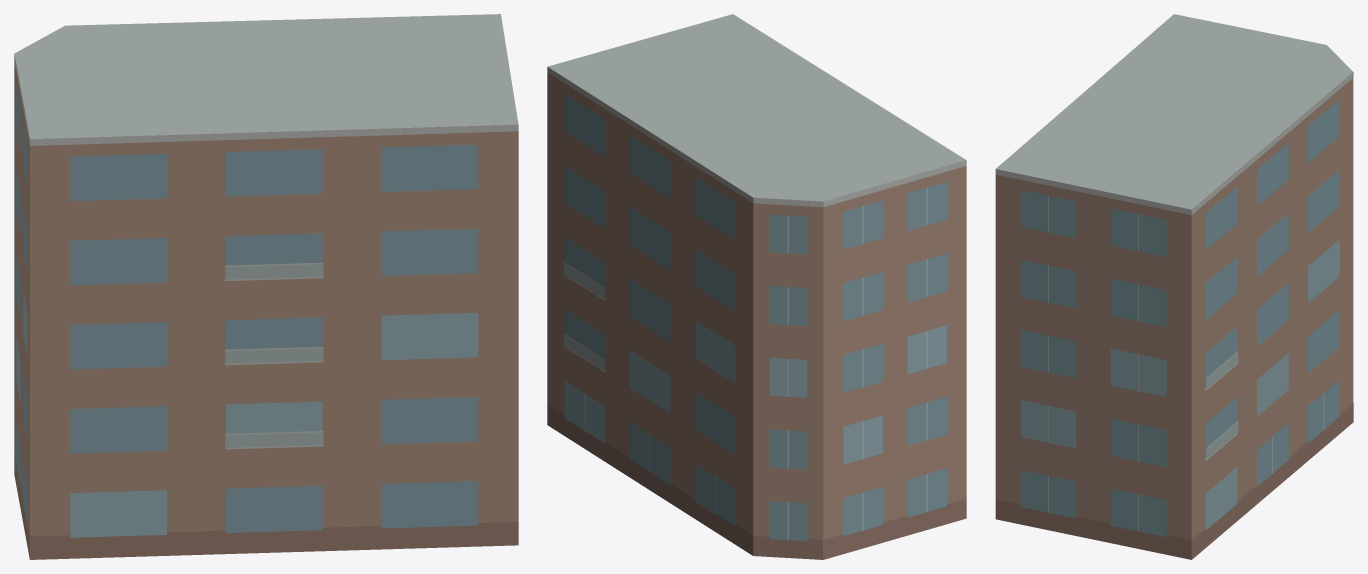
File: survey-upis-32909657.glb
The picture shows the model from 3 angles, left to right: view 1: azimuth 30°, elevation 25°; view 2: azimuth 150°, elevation 25°; view 3: azimuth 270°, elevation 25°; orthographic projection. The views are drawn at different scales.
Visible parts, largest first — view 1: survey-upis-32909657.tmp; view 2: survey-upis-32909657.tmp; view 3: survey-upis-32909657.tmp.
Boxes of the visible parts, <box> form: survey-upis-32909657.tmp: <box>14,14,518,559</box>; survey-upis-32909657.tmp: <box>547,14,966,559</box>; survey-upis-32909657.tmp: <box>995,14,1353,559</box>.
Size of the model in its own units: 18.34 by 15.3 by 14.18.
